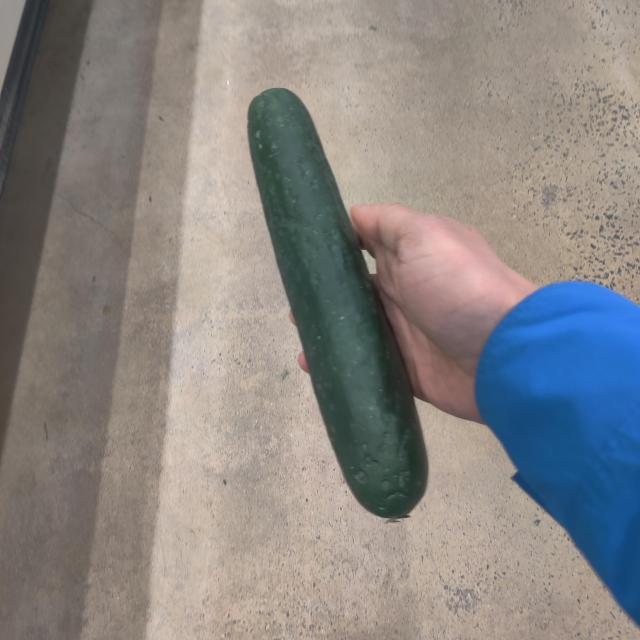Cucumber: (250, 87, 434, 527)
